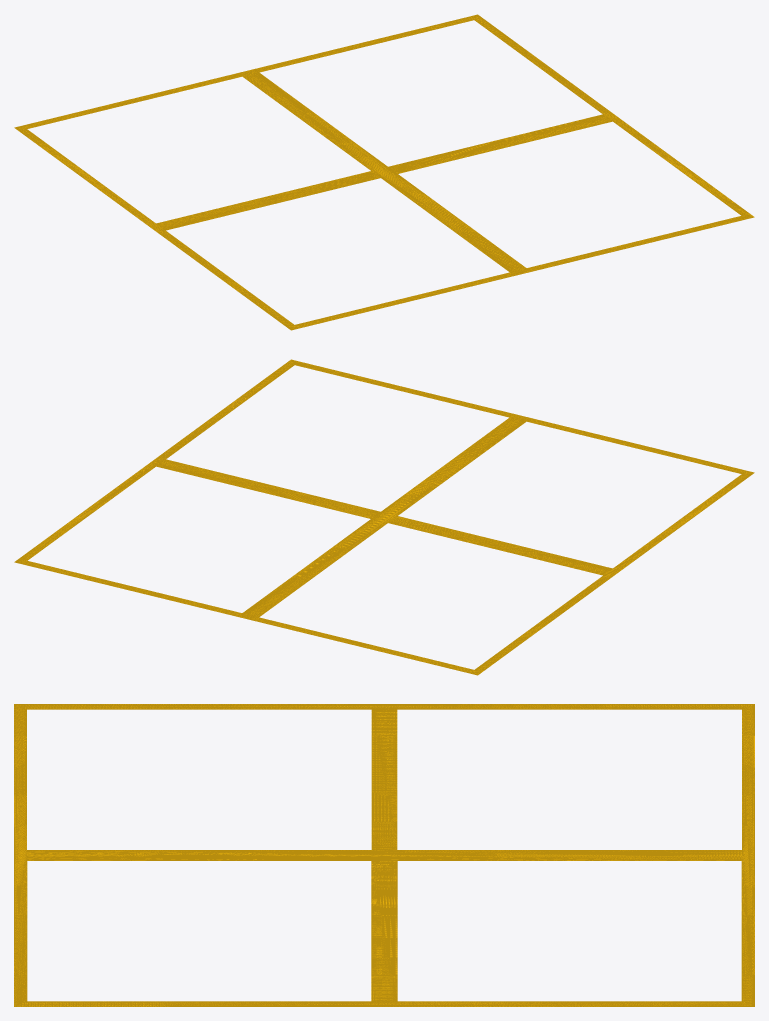
The picture shows the model from 3 angles, top to bottom: view 1: azimuth 30°, elevation 25°; view 2: azimuth 150°, elevation 25°; view 3: azimuth 270°, elevation 25°; orthographic projection. The views are drawn at different scales.
Parts seen in each view (by area): view 1: Group1; view 2: Group1; view 3: Group1.
Part boxes in pixels (x1=…): Group1: x1=14, y1=14, x2=754, y2=330; Group1: x1=14, y1=359, x2=754, y2=675; Group1: x1=14, y1=704, x2=754, y2=1006.
Size of the model in its own units: 2182 by 0 by 2258.
